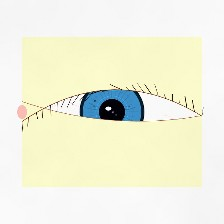pinguecula_lesion: (142, 101, 173, 126)
